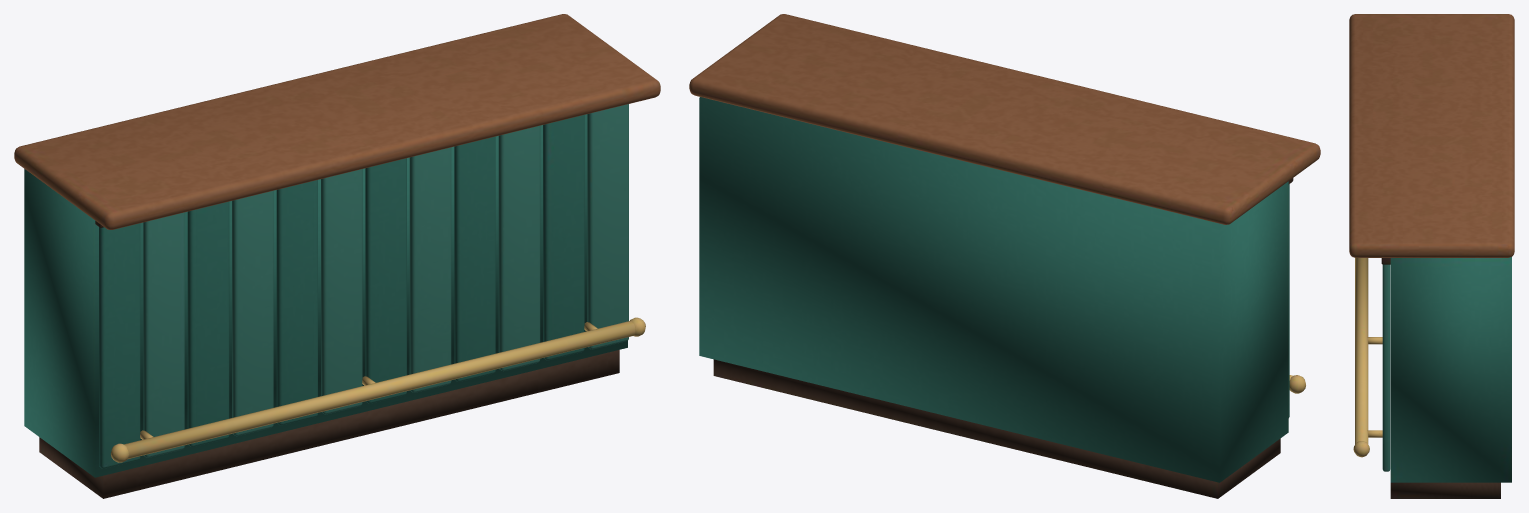
File: trumua-bar-counter.glb
3 renders of one model, left to right at view 1: azimuth 30°, elevation 25°; view 2: azimuth 150°, elevation 25°; view 3: azimuth 270°, elevation 25°, orthographic. The views are drawn at different scales.
Parts seen in each view (by area): view 1: trumua-bar-counter; view 2: trumua-bar-counter; view 3: trumua-bar-counter.
Boxes of the visible parts, x1,y1,x2,y2 form: trumua-bar-counter: [14, 14, 660, 498]; trumua-bar-counter: [689, 14, 1320, 498]; trumua-bar-counter: [1349, 14, 1514, 498].
Bounding box in the file's own units: 2 × 1.05 × 0.6.
Materials: 1 (1 with a texture image).
